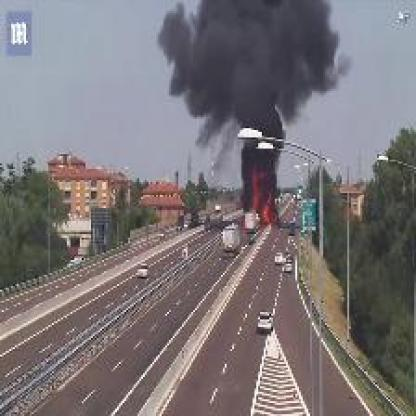fire: (242, 166, 280, 228)
